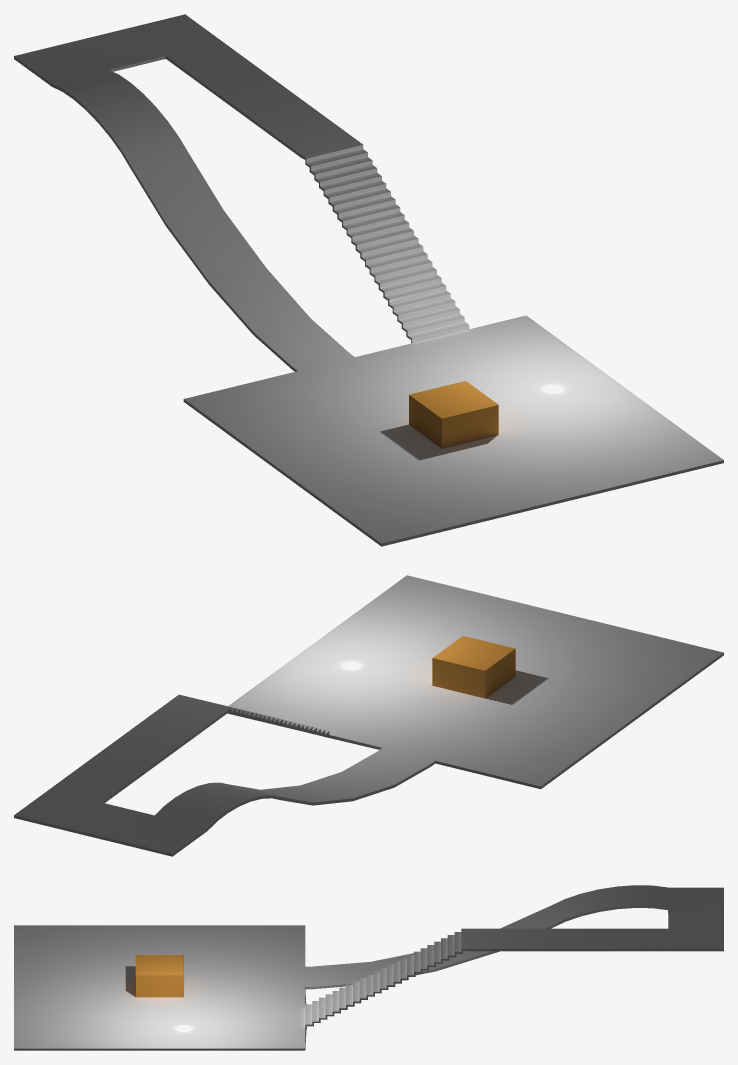
The picture shows the model from 3 angles, top to bottom: view 1: azimuth 30°, elevation 25°; view 2: azimuth 150°, elevation 25°; view 3: azimuth 270°, elevation 25°; orthographic projection. The views are drawn at different scales.
Visible parts, largest first — view 1: Floor_Baked, Cube_Baked; view 2: Floor_Baked, Cube_Baked; view 3: Floor_Baked, Cube_Baked.
Part boxes in pixels (x1=…): Floor_Baked: x1=14, y1=14, x2=723, y2=546; Cube_Baked: x1=409, y1=381, x2=498, y2=448; Floor_Baked: x1=14, y1=575, x2=723, y2=856; Cube_Baked: x1=432, y1=636, x2=515, y2=698; Floor_Baked: x1=14, y1=885, x2=723, y2=1050; Cube_Baked: x1=135, y1=955, x2=183, y2=997.
Bounding box in the file's own units: 12.04 × 4.71 × 29.33.
Materials: 2 (2 with a texture image).
